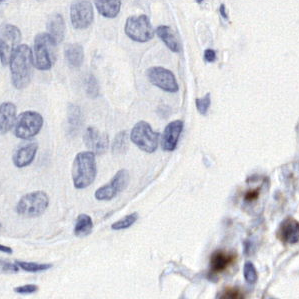Lymphocyte: (209, 249, 236, 278)
